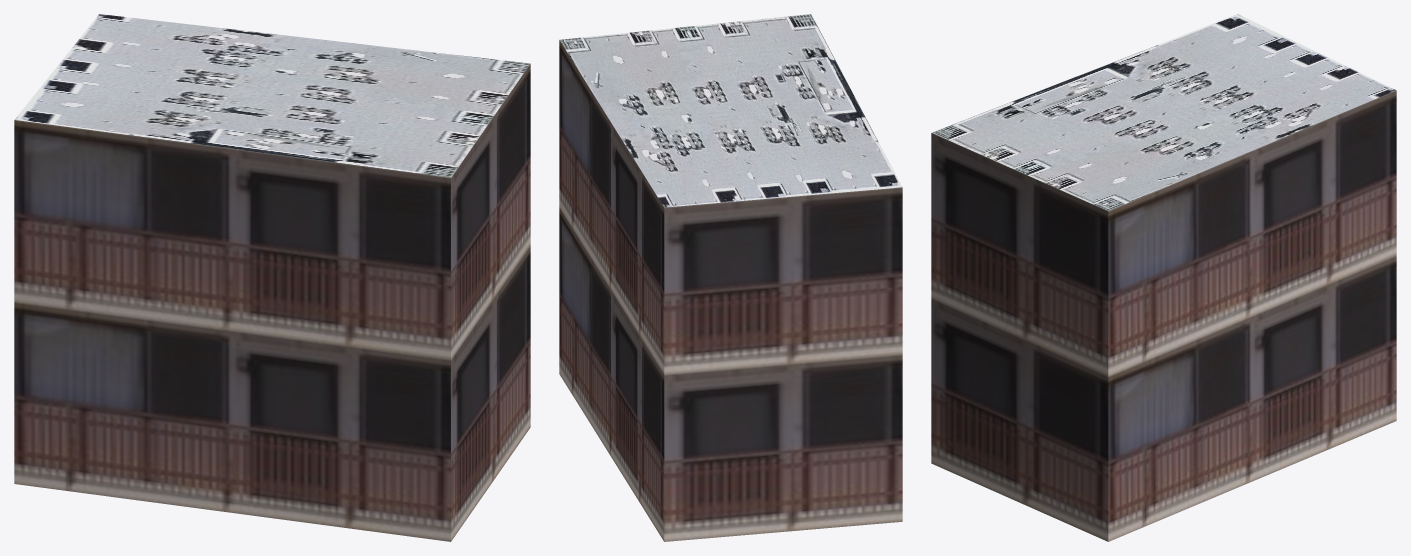
The model's file is ResTex__3509.fbx.
The picture shows the model from 3 angles, left to right: view 1: azimuth 30°, elevation 25°; view 2: azimuth 150°, elevation 25°; view 3: azimuth 270°, elevation 25°; orthographic projection. The views are drawn at different scales.
Visible parts, largest first — view 1: CityEngineMaterial_6_m, CityEngineMaterial_8_m; view 2: CityEngineMaterial_6_m, CityEngineMaterial_8_m; view 3: CityEngineMaterial_6_m, CityEngineMaterial_8_m.
Part boxes in pixels (x1,y1,x2,y2): CityEngineMaterial_6_m: (14,64,530,541); CityEngineMaterial_8_m: (14,14,530,177); CityEngineMaterial_6_m: (559,40,902,541); CityEngineMaterial_8_m: (559,14,901,207); CityEngineMaterial_6_m: (931,90,1396,541); CityEngineMaterial_8_m: (931,14,1395,210).
Size of the model in its own units: 7.67 by 6 by 7.65.
Materials: 2 (2 with a texture image).
